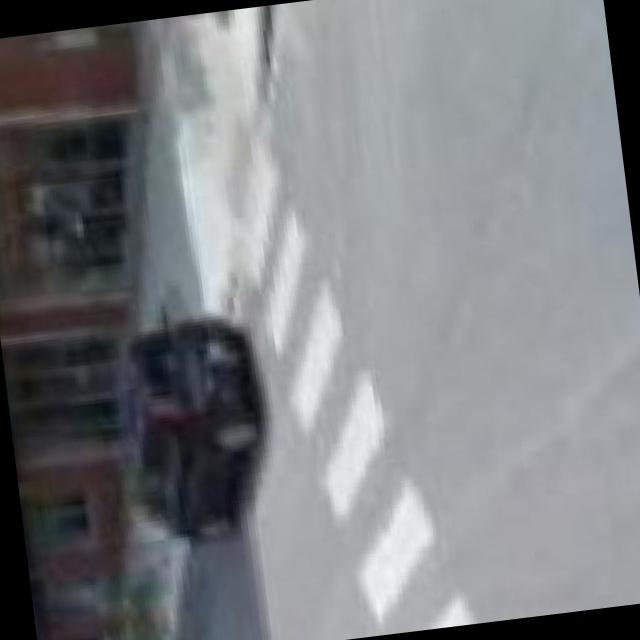zebra: (214, 114, 480, 637)
